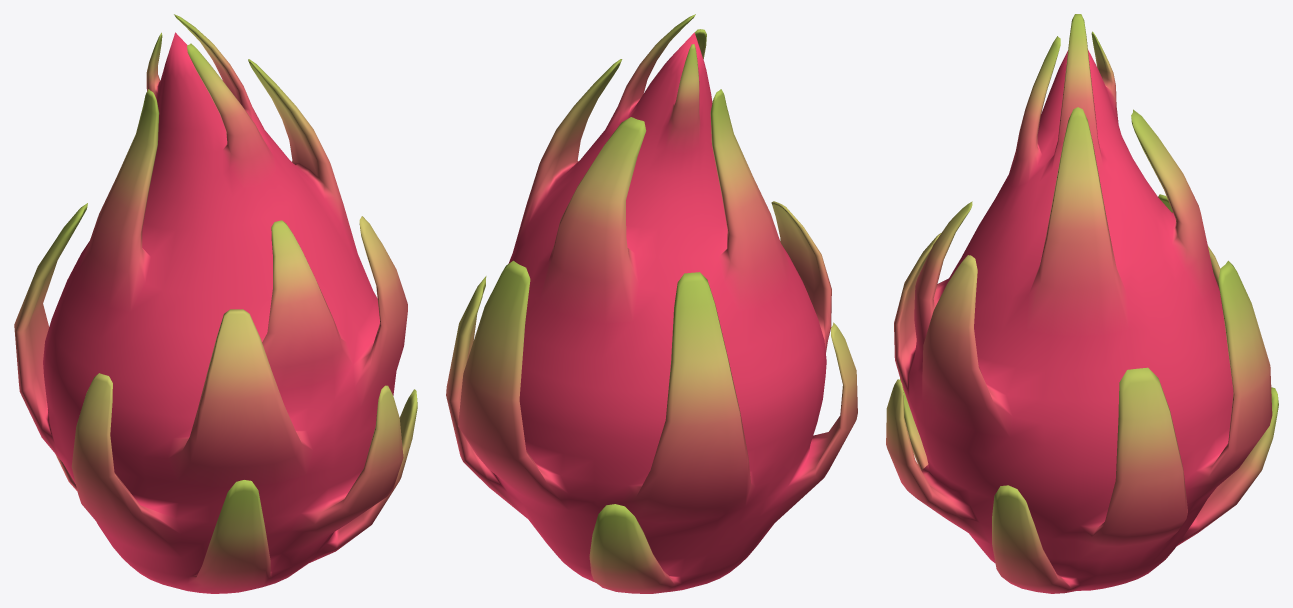
File: Dragon_Fruit.fbx
3 views of the same model, side by side, from view 1: azimuth 30°, elevation 25°; view 2: azimuth 150°, elevation 25°; view 3: azimuth 270°, elevation 25° (orthographic). The views are drawn at different scales.
Parts seen in each view (by area): view 1: Dragon_Fruit; view 2: Dragon_Fruit; view 3: Dragon_Fruit.
Part boxes in pixels (<box>): Dragon_Fruit: <box>14,14,417,593</box>; Dragon_Fruit: <box>446,14,857,593</box>; Dragon_Fruit: <box>886,14,1278,593</box>.
Bounding box in the file's own units: 0.4506 × 0.7227 × 0.474.
Materials: 1 (1 with a texture image).
